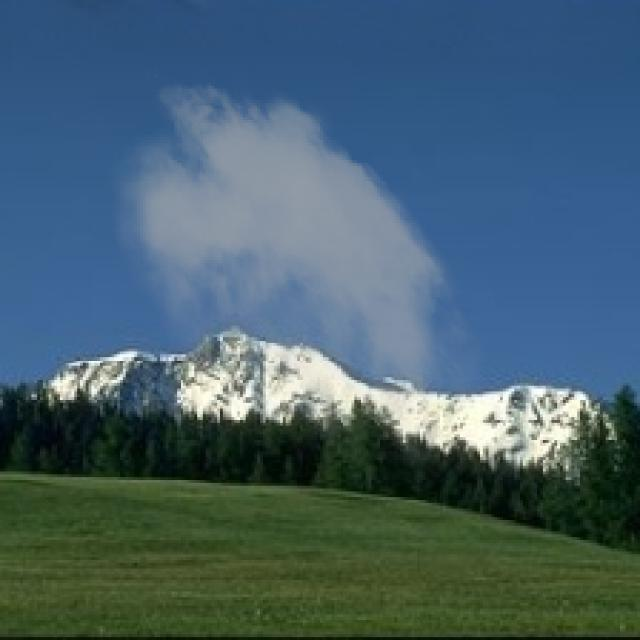Smoke: (94, 68, 492, 483)
